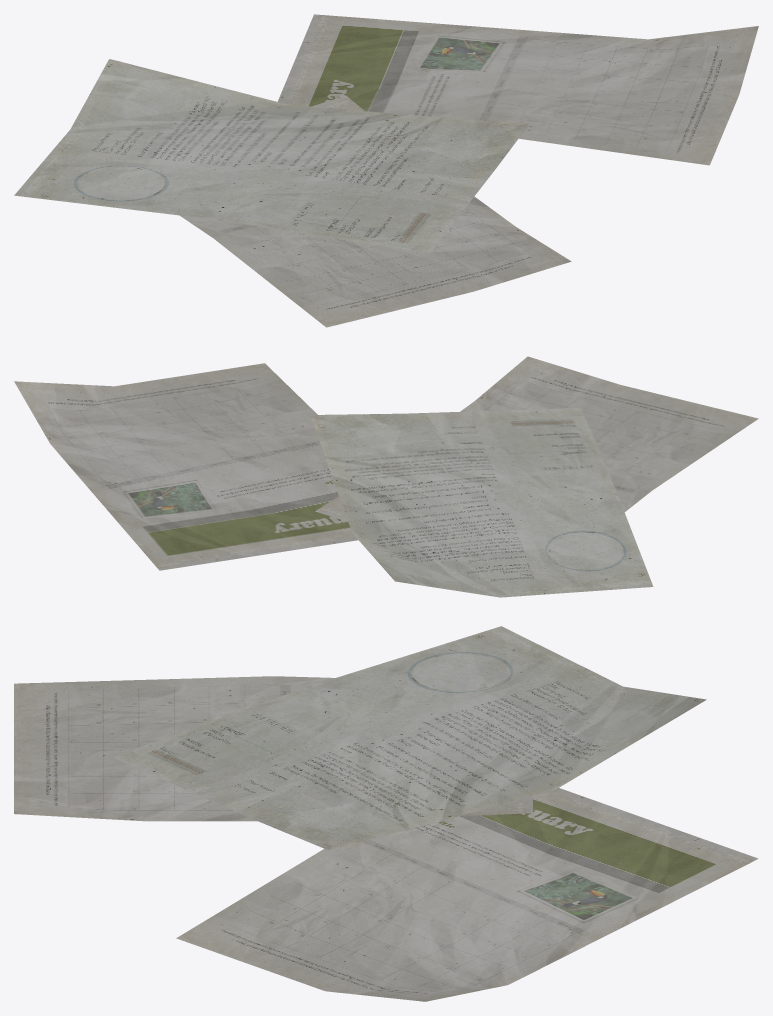
File: SM_Debris_Paper_Set3.fbx
The picture shows the model from 3 angles, top to bottom: view 1: azimuth 30°, elevation 25°; view 2: azimuth 150°, elevation 25°; view 3: azimuth 270°, elevation 25°; orthographic projection. The views are drawn at different scales.
Parts seen in each view (by area): view 1: SM_Debris_Paper_Set3_LOD0; view 2: SM_Debris_Paper_Set3_LOD0; view 3: SM_Debris_Paper_Set3_LOD0.
Part boxes in pixels (box(x1,y1,x2,y2)): SM_Debris_Paper_Set3_LOD0: box(14, 14, 758, 327); SM_Debris_Paper_Set3_LOD0: box(14, 356, 758, 597); SM_Debris_Paper_Set3_LOD0: box(14, 626, 758, 1001).
Size of the model in its own units: 77.93 by 61.49 by 2.89.
Materials: 1 (1 with a texture image).
